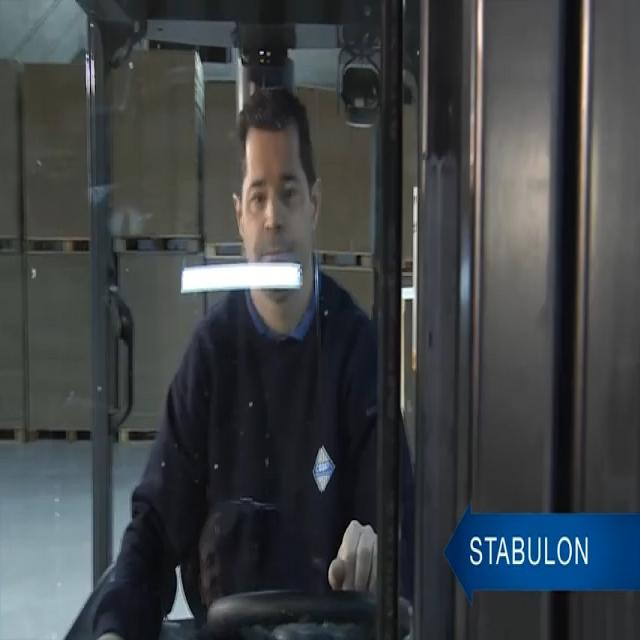Chariot elevateur: (66, 10, 428, 640)
Palette: (110, 228, 208, 259), (314, 244, 372, 280), (26, 228, 93, 257), (114, 423, 162, 453), (30, 424, 94, 444), (209, 240, 247, 267), (0, 421, 25, 447), (0, 228, 16, 255), (246, 259, 248, 261)
